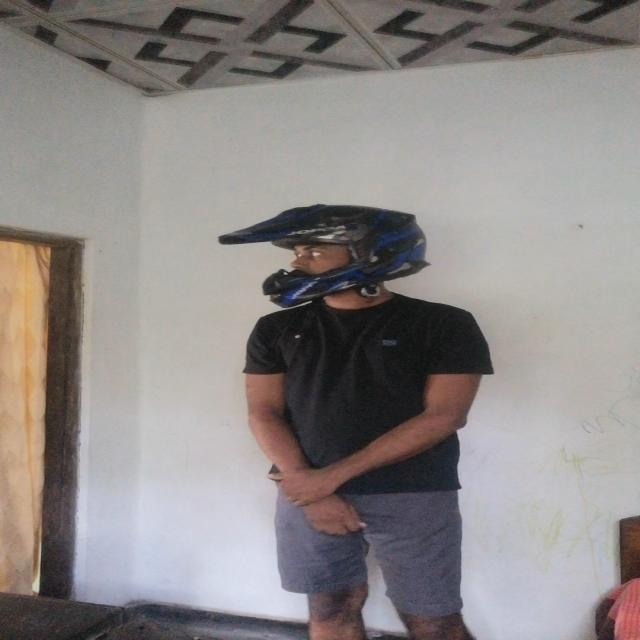Helmet_Wearer: (220, 199, 458, 303)
Person: (234, 206, 510, 628)
